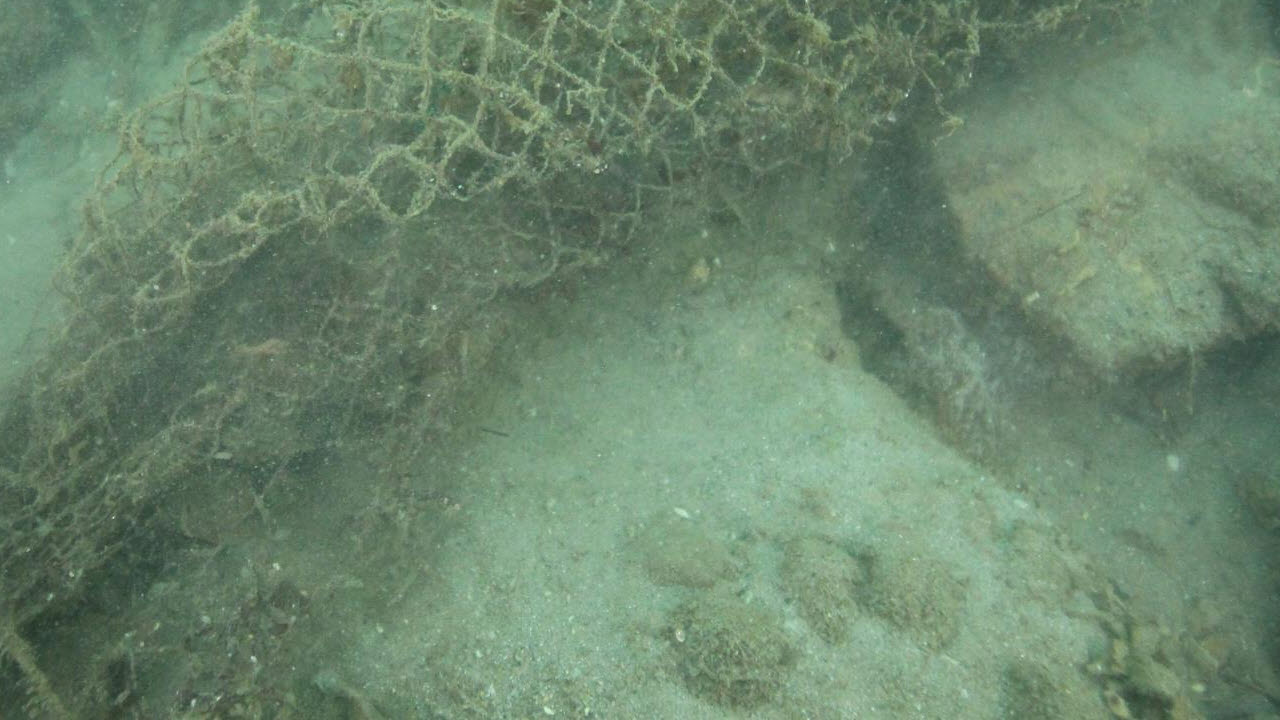fish net: (0, 0, 1084, 571)
